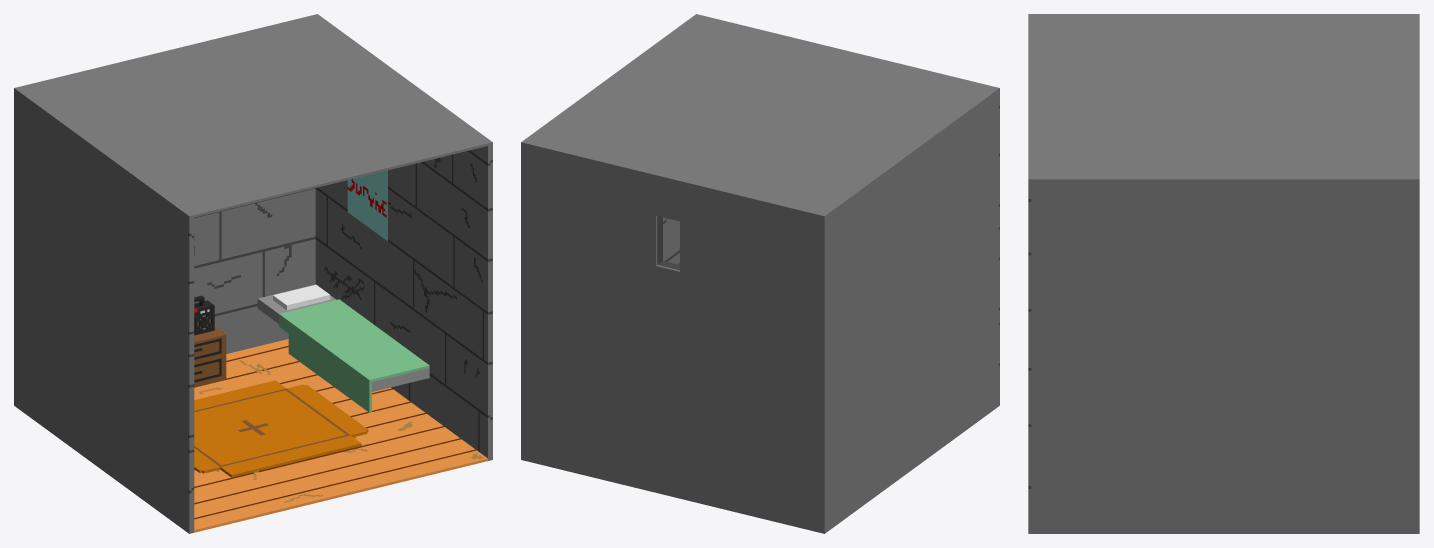
The model's file is Cosmic_S_Jailcell.fbx.
3 views of the same model, side by side, from view 1: azimuth 30°, elevation 25°; view 2: azimuth 150°, elevation 25°; view 3: azimuth 270°, elevation 25° (orthographic). The views are drawn at different scales.
Parts seen in each view (by area): view 1: Cosmic_S_JailCell:Mesh; view 2: Cosmic_S_JailCell:Mesh; view 3: Cosmic_S_JailCell:Mesh.
Boxes of the visible parts, x1=… form: Cosmic_S_JailCell:Mesh: x1=14, y1=14, x2=492, y2=533; Cosmic_S_JailCell:Mesh: x1=521, y1=14, x2=999, y2=533; Cosmic_S_JailCell:Mesh: x1=1028, y1=14, x2=1419, y2=533.
Bounding box in the file's own units: 126 × 126 × 126.
1 material, 1 textured.
